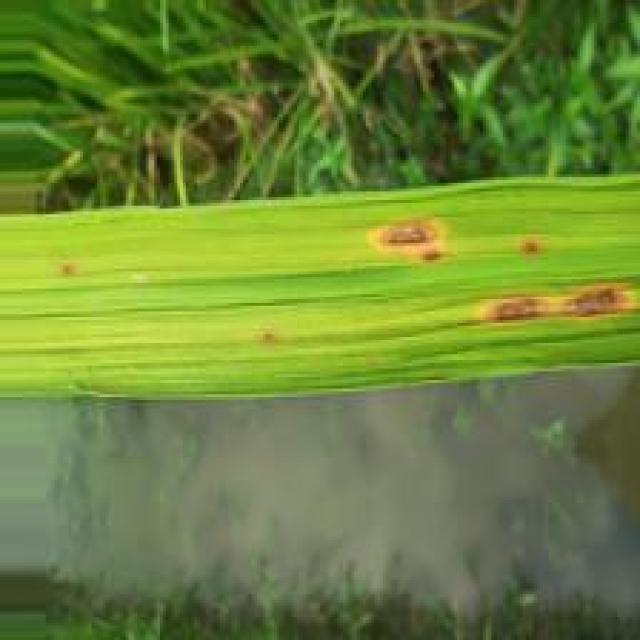Narrow_Brown_Leaf_Spot: (458, 280, 640, 334), (358, 218, 448, 262), (517, 237, 541, 258), (58, 255, 76, 276), (258, 332, 278, 345)
